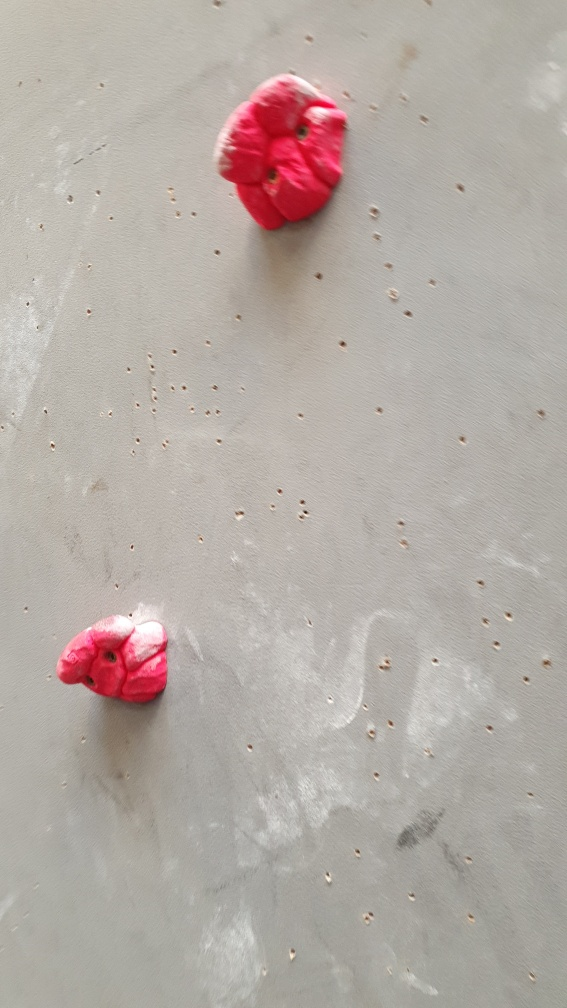Jug: (212, 70, 350, 235), (57, 612, 167, 705)
